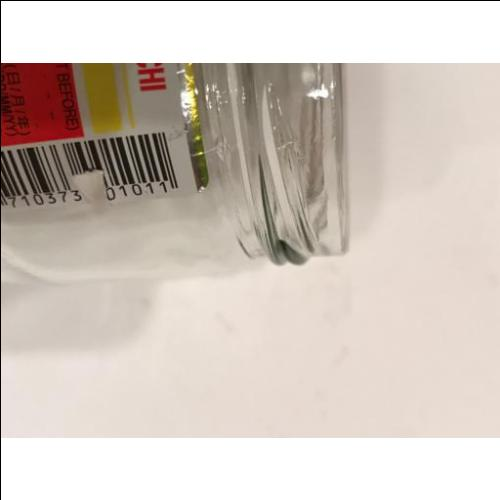glass: (0, 59, 344, 277)
